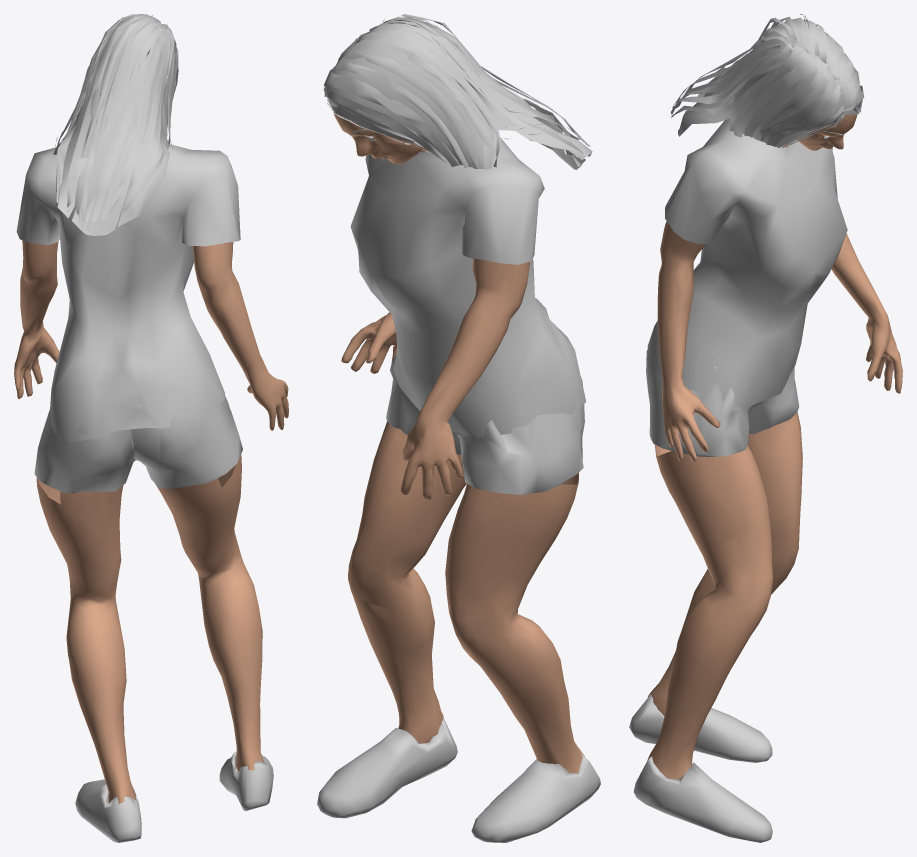
Rendered from player2att_000008.obj.
The picture shows the model from 3 angles, left to right: view 1: azimuth 30°, elevation 25°; view 2: azimuth 150°, elevation 25°; view 3: azimuth 270°, elevation 25°; orthographic projection. The views are drawn at different scales.
Visible parts, largest first — view 1: player2:Body, player2:tshirt02, player2:fhair01, player2:short01, player2:shoes02; view 2: player2:Body, player2:tshirt02, player2:fhair01, player2:shoes02, player2:short01; view 3: player2:Body, player2:tshirt02, player2:fhair01, player2:shoes02, player2:short01.
Part boxes in pixels (left/top/right/bottom): player2:Body: left=14, top=240, right=288, bottom=803; player2:tshirt02: left=16, top=144, right=240, bottom=442; player2:fhair01: left=53, top=14, right=178, bottom=235; player2:short01: left=34, top=395, right=242, bottom=493; player2:shoes02: left=75, top=751, right=273, bottom=842; player2:Body: left=333, top=113, right=584, bottom=773; player2:tshirt02: left=350, top=137, right=586, bottom=437; player2:fhair01: left=323, top=14, right=592, bottom=169; player2:shoes02: left=317, top=717, right=600, bottom=842; player2:short01: left=386, top=355, right=584, bottom=494; player2:Body: left=647, top=114, right=902, bottom=779; player2:tshirt02: left=647, top=118, right=847, bottom=408; player2:fhair01: left=670, top=14, right=864, bottom=147; player2:shoes02: left=629, top=694, right=772, bottom=842; player2:short01: left=646, top=344, right=799, bottom=456.
Bounding box in the file's own units: 5.11 × 16.19 × 5.17.
